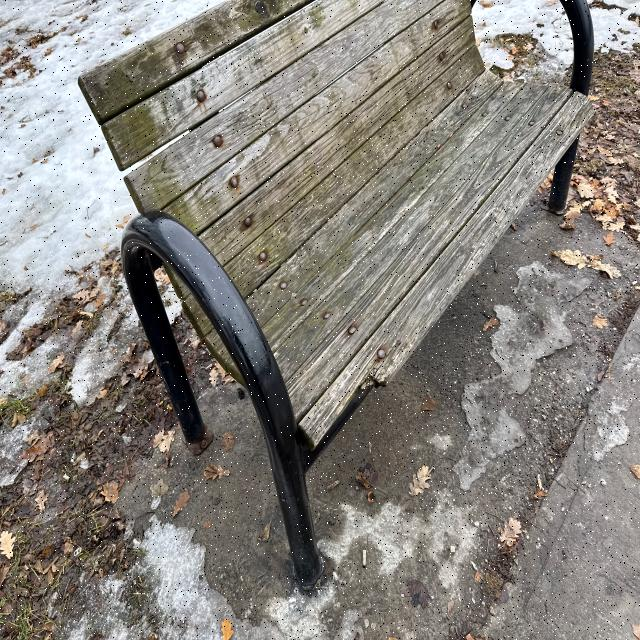Bench: (82, 3, 584, 556)
